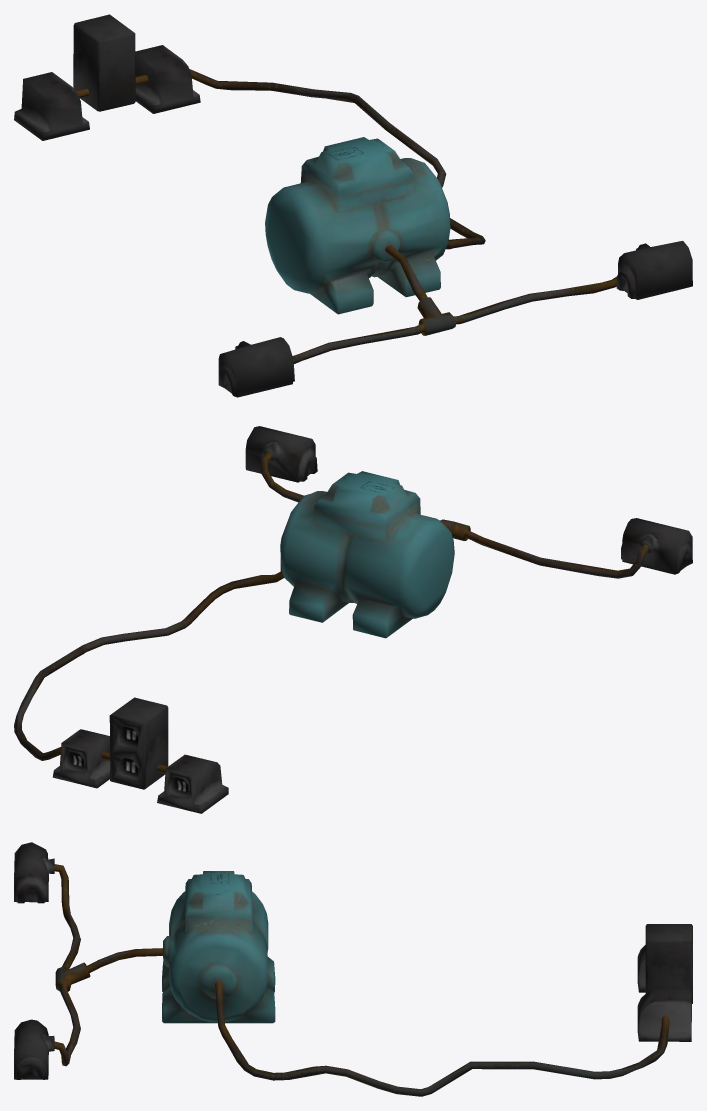
The model's file is reactivetargetmechanism.glb.
3 renders of one model, top to bottom at view 1: azimuth 30°, elevation 25°; view 2: azimuth 150°, elevation 25°; view 3: azimuth 270°, elevation 25°, orthographic. The views are drawn at different scales.
Parts seen in each view (by area): view 1: ReactiveTargetMechanism; view 2: ReactiveTargetMechanism; view 3: ReactiveTargetMechanism.
Part boxes in pixels (x1,y1,x2,y2): ReactiveTargetMechanism: (14, 14, 692, 397); ReactiveTargetMechanism: (14, 426, 692, 813); ReactiveTargetMechanism: (14, 842, 692, 1096).
Size of the model in its own units: 0.6957 by 0.2109 by 0.977.
Materials: 1 (1 with a texture image).
